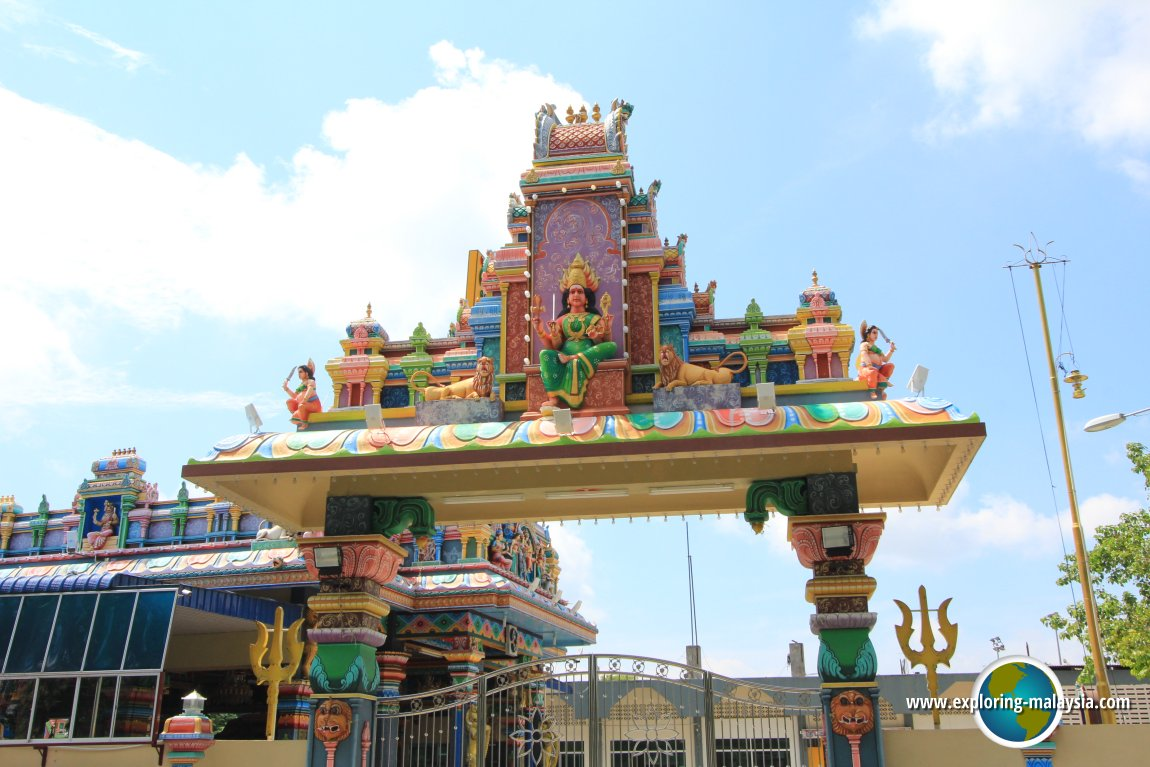Hindu Temple: (211, 98, 950, 531)
